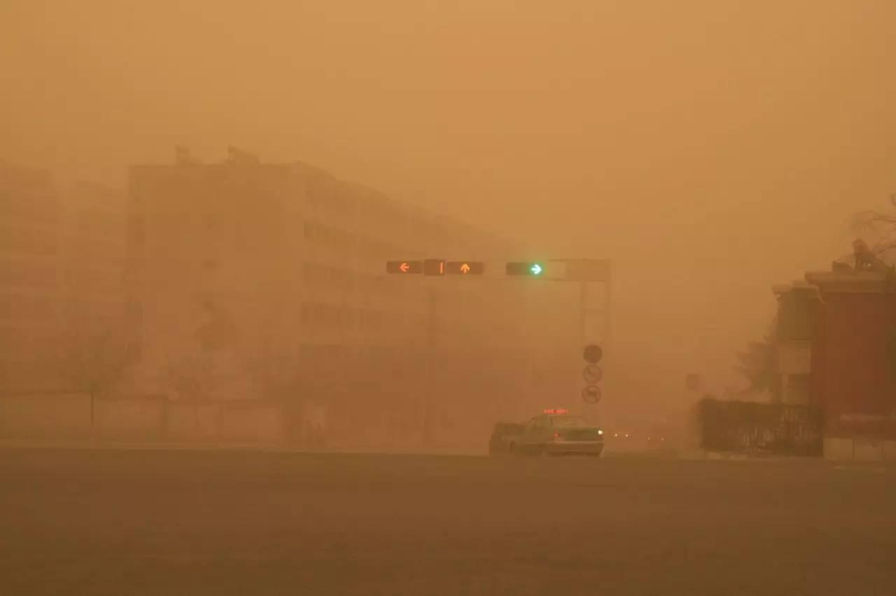car: (499, 406, 605, 463)
